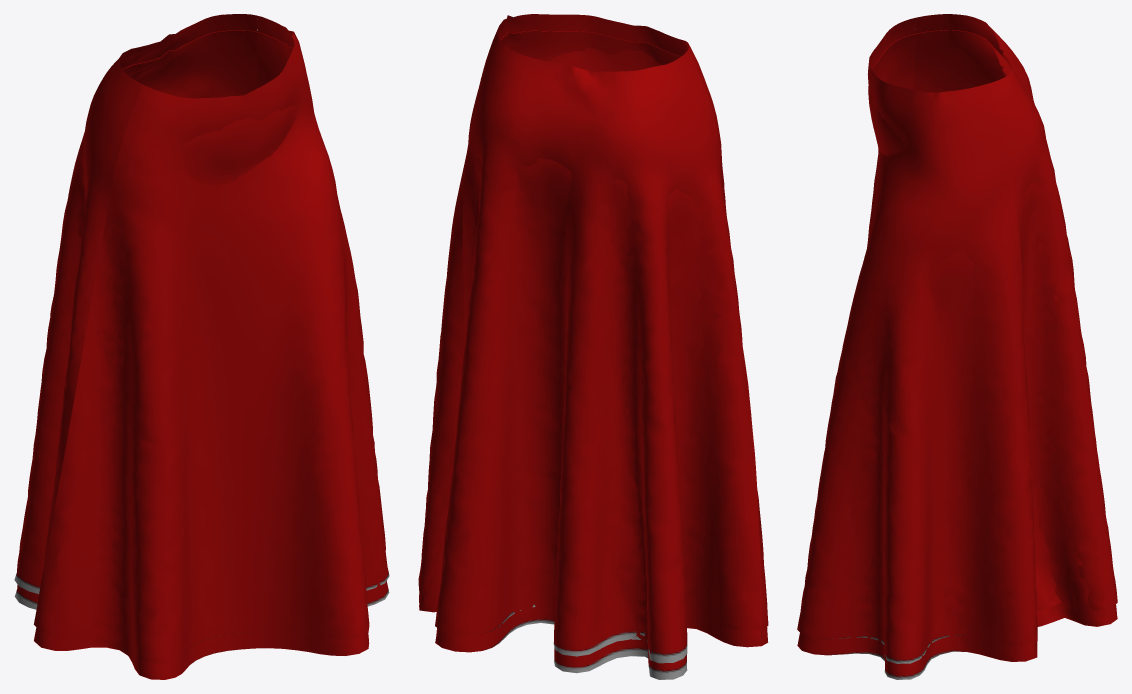
File: maxi_skirt.glb
3 views of the same model, side by side, from view 1: azimuth 30°, elevation 25°; view 2: azimuth 150°, elevation 25°; view 3: azimuth 270°, elevation 25° (orthographic). The views are drawn at different scales.
Parts seen in each view (by area): view 1: Object_2, Object_3; view 2: Object_2, Object_3; view 3: Object_2, Object_3.
Part boxes in pixels (x1,y1,x2,y2): Object_2: (14,14,389,663); Object_3: (15,30,388,679); Object_2: (418,14,768,663); Object_3: (419,31,767,679); Object_2: (797,14,1117,663); Object_3: (797,30,1117,679).
Bounding box in the file's own units: 0.5309 × 0.895 × 0.4577.
Materials: 1 (1 with a texture image).
